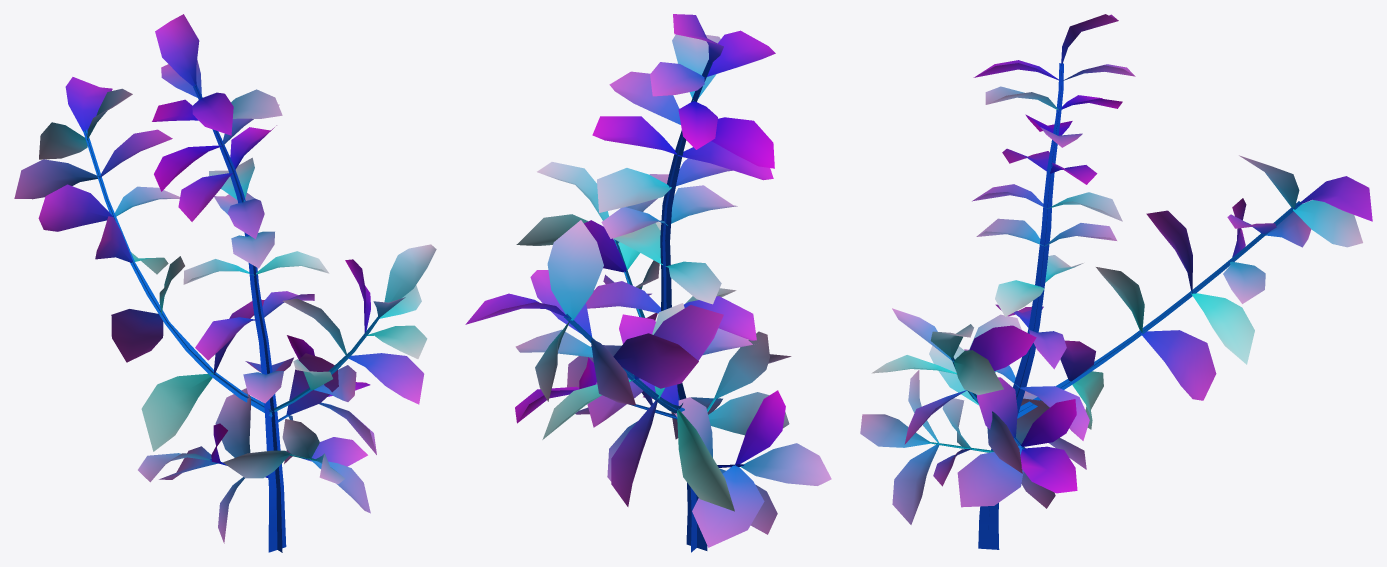
Rendered from European_Spindle_wk1ncbxja_Mid_wk1ncbxja_VarG_LOD1.fbx.
The picture shows the model from 3 angles, left to right: view 1: azimuth 30°, elevation 25°; view 2: azimuth 150°, elevation 25°; view 3: azimuth 270°, elevation 25°; orthographic projection. The views are drawn at different scales.
Parts seen in each view (by area): view 1: _4giq_VarG_LOD2; view 2: _4giq_VarG_LOD2; view 3: _4giq_VarG_LOD2.
Part boxes in pixels (x1,y1,x2,y2): _4giq_VarG_LOD2: (14,14,436,552); _4giq_VarG_LOD2: (465,14,831,552); _4giq_VarG_LOD2: (860,14,1372,549).
Size of the model in its own units: 33.63 by 60.72 by 54.49.
